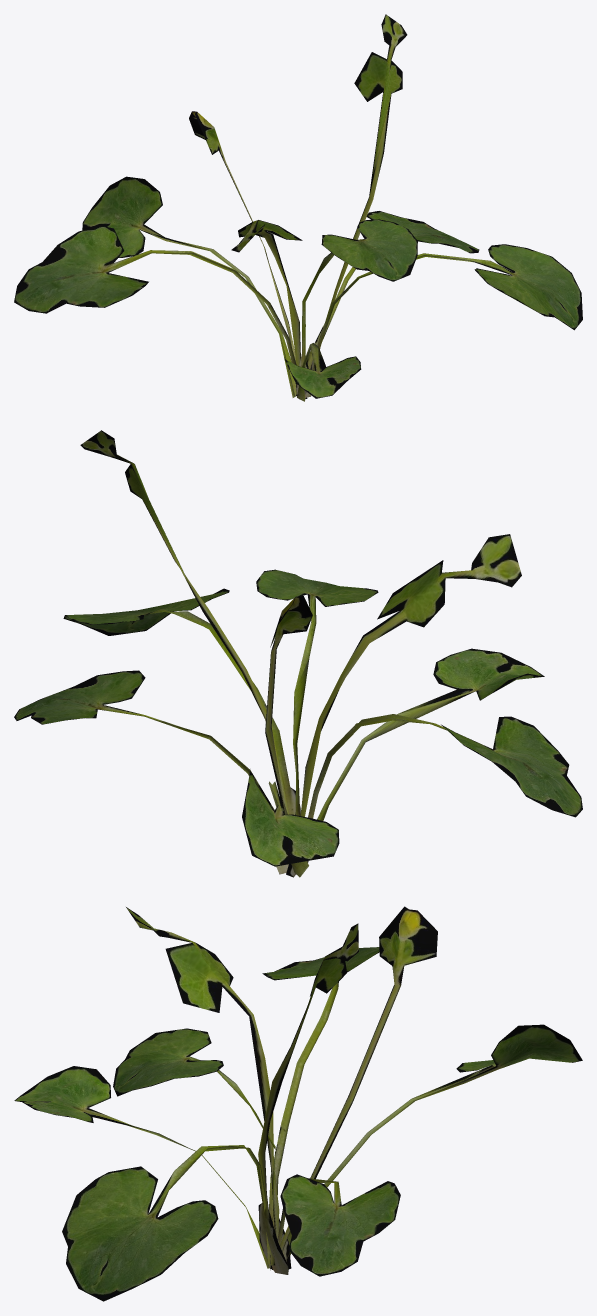
Rendered from flower_yellow.glb.
The picture shows the model from 3 angles, top to bottom: view 1: azimuth 30°, elevation 25°; view 2: azimuth 150°, elevation 25°; view 3: azimuth 270°, elevation 25°; orthographic projection. The views are drawn at different scales.
Parts seen in each view (by area): view 1: celandine_01_a_LOD0; view 2: celandine_01_a_LOD0; view 3: celandine_01_a_LOD0.
Boxes of the visible parts, x1=… form: celandine_01_a_LOD0: x1=14, y1=14, x2=582, y2=401; celandine_01_a_LOD0: x1=14, y1=430, x2=582, y2=877; celandine_01_a_LOD0: x1=14, y1=906, x2=582, y2=1301.
Size of the model in its own units: 0.5193 by 0.35 by 0.4298.
1 material, 1 textured.
